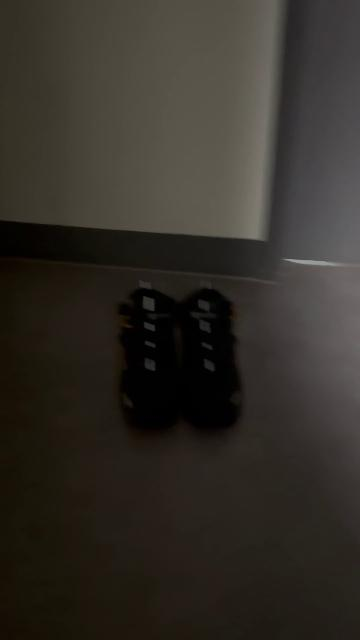shoe_worn: (112, 281, 183, 437), (179, 284, 245, 435)
